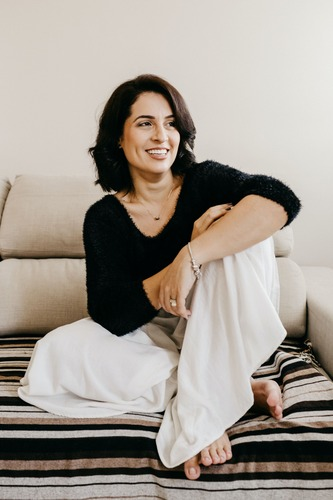without_mask: (128, 106, 180, 174)
